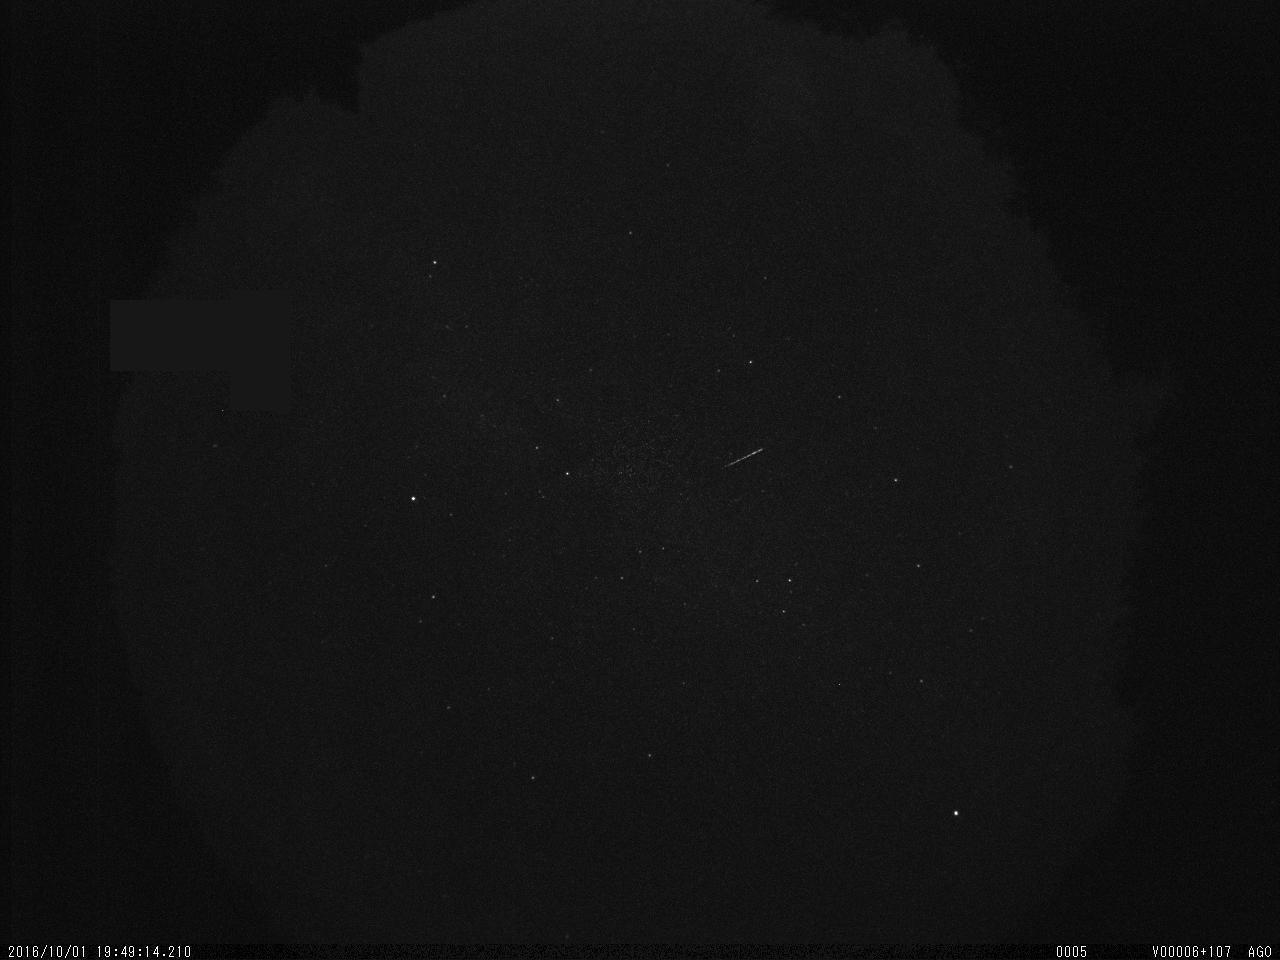meteor: (718, 441, 771, 471)
